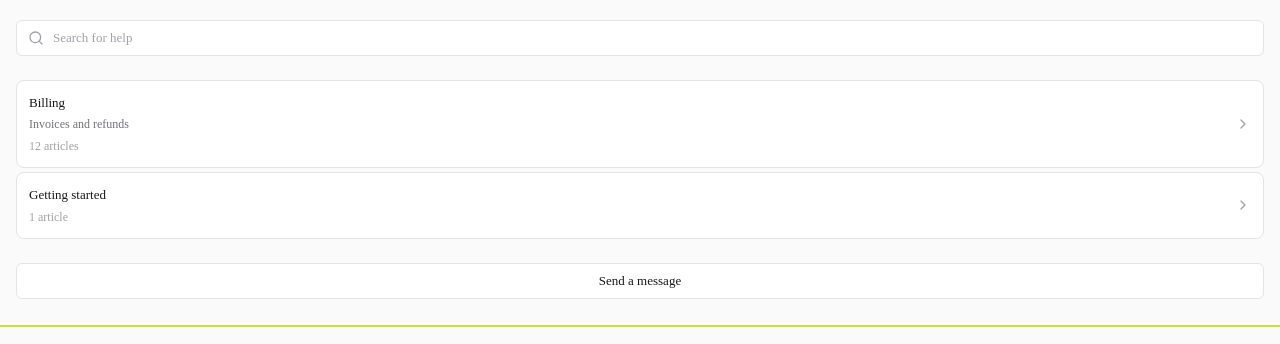
Help, browsing collections › opens a collection to its own articles, with a back control and its name
Click the text "Billing". click: (47, 102)
box: [29, 95, 65, 110]
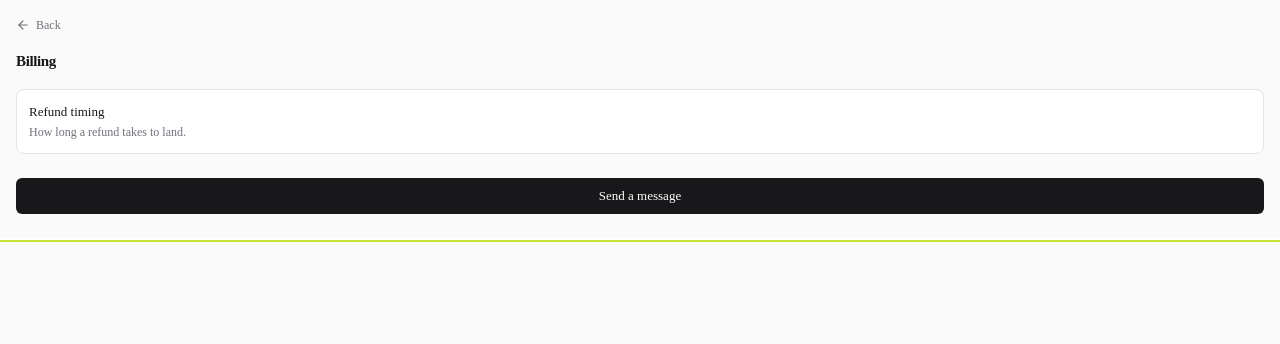
Check: the heading "Billing" is shown, box [16, 53, 56, 69]
Check: the text "Refund timing" is shown, box [29, 104, 104, 118]
Check: the button "Back" is shown, box [16, 16, 61, 34]
